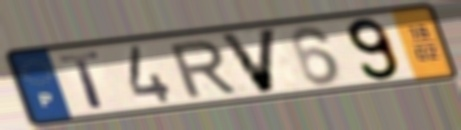4: (127, 43, 173, 105)
6: (289, 23, 343, 88)
9: (343, 15, 403, 81)
R: (165, 38, 240, 101)
T: (56, 49, 109, 111)
V: (215, 26, 281, 96)
